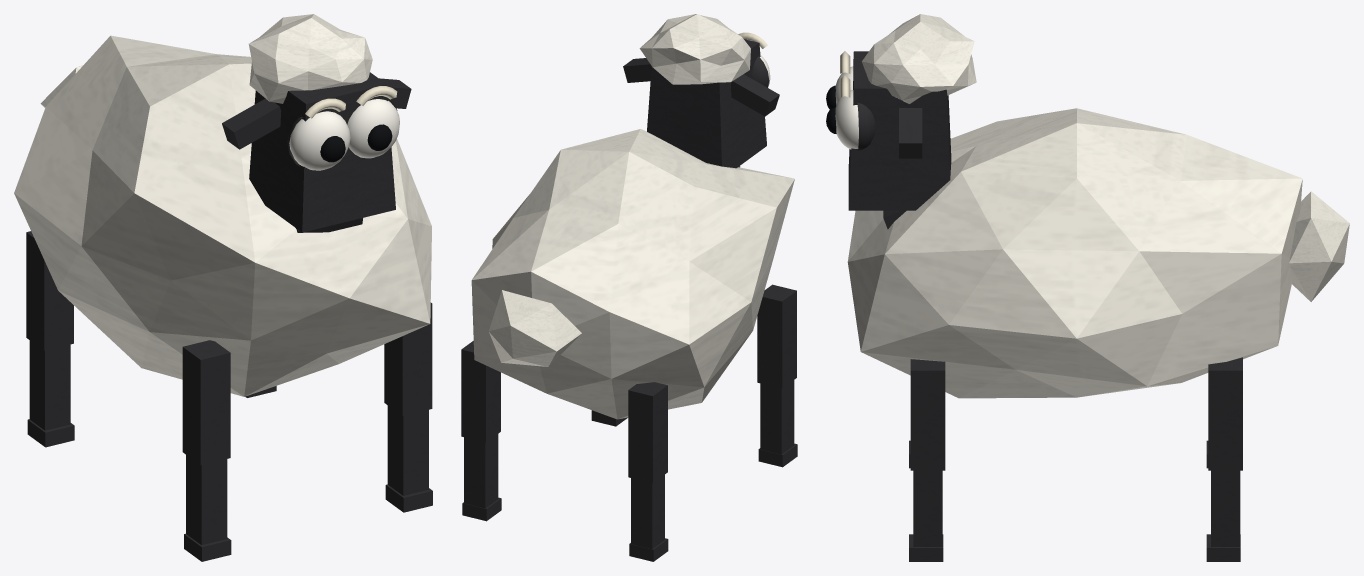
The model's file is sheep.glb.
3 views of the same model, side by side, from view 1: azimuth 30°, elevation 25°; view 2: azimuth 150°, elevation 25°; view 3: azimuth 270°, elevation 25° (orthographic). The views are drawn at different scales.
Parts seen in each view (by area): view 1: body, head, legFR, kneeFR, kneeFL, kneeBR, legFL, legBR, earR; view 2: body, head, legBR, legFR, legBL, kneeBL, kneeFR, kneeBR, earR, earL; view 3: body, head, legFL, legBL, kneeFL, kneeBL, earL.
Boxes of the visible parts, box(x1,y1,x2,y2) form: body: box(14, 35, 431, 396); head: box(248, 14, 399, 232); legFR: box(182, 340, 230, 465); kneeFR: box(184, 455, 231, 561); kneeFL: box(385, 405, 432, 512); kneeBR: box(27, 340, 74, 447); legFL: box(384, 302, 432, 415); legBR: box(26, 231, 73, 350); earR: box(222, 98, 281, 149); body: box(471, 129, 794, 419); head: box(639, 14, 770, 168); legBR: box(628, 382, 667, 483); legFR: box(757, 284, 796, 388); legBL: box(461, 341, 500, 442); kneeBL: box(462, 434, 501, 521); kneeFR: box(758, 380, 797, 467); kneeBR: box(629, 475, 668, 561); earR: box(731, 74, 779, 116); earL: box(623, 58, 651, 82); body: box(847, 108, 1349, 398); head: box(826, 14, 976, 210); legFL: box(910, 359, 945, 470); legBL: box(1208, 357, 1242, 470); kneeFL: box(909, 470, 943, 561); kneeBL: box(1206, 470, 1240, 561); earL: box(899, 108, 922, 158).
Bounding box in the file's own units: 0.7334 × 1.15 × 1.12.
Materials: 12 (9 with a texture image).
